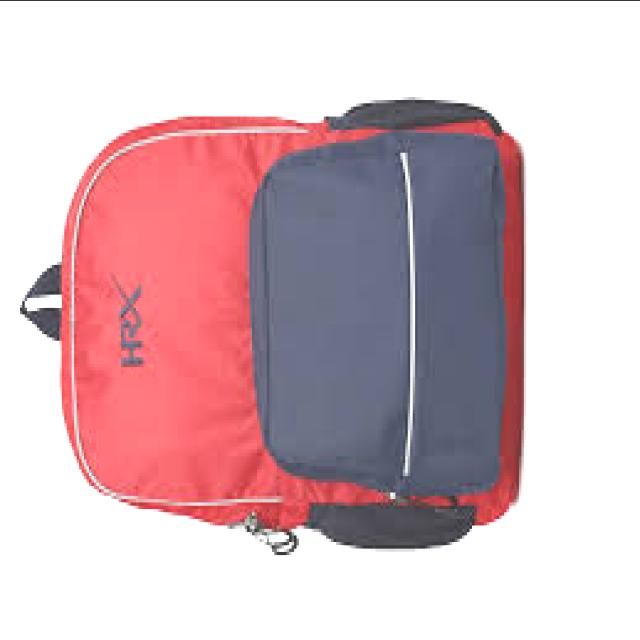backpack: (19, 100, 525, 558)
